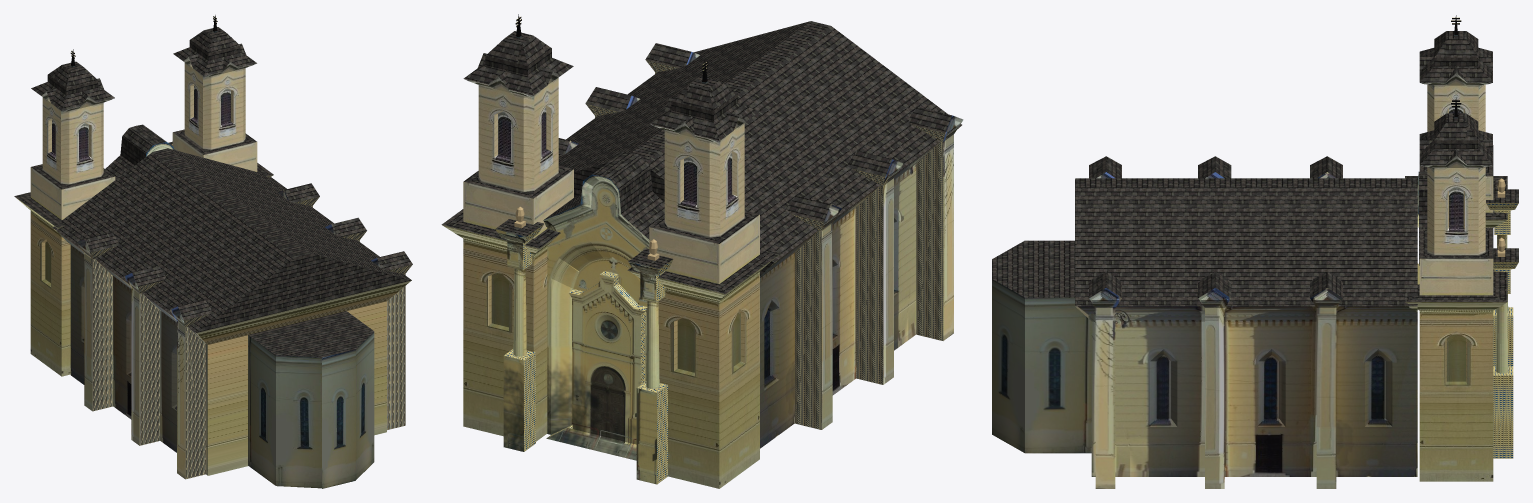
Rendered from kostol_moyzesova_upd.glb.
The picture shows the model from 3 angles, left to right: view 1: azimuth 30°, elevation 25°; view 2: azimuth 150°, elevation 25°; view 3: azimuth 270°, elevation 25°; orthographic projection. The views are drawn at different scales.
Parts seen in each view (by area): view 1: C-Object01#1, C-bok#1, C-veze#1, C-Object07, C-veze#1.001, C-Object06; view 2: C-Object01#1, C-bok#1, C-kostol#1, C-veze#1, C-veze#1.001; view 3: C-bok#1, C-Object01#1, C-veze#1.001, C-kostol#1, C-veze#1.
Boxes of the visible parts, box(x1,y1,x2,y2) form: C-Object01#1: box(14, 27, 412, 357); C-bok#1: box(54, 190, 412, 488); C-veze#1: box(16, 49, 115, 376); C-Object07: box(196, 280, 411, 475); C-veze#1.001: box(172, 15, 273, 177); C-Object06: box(322, 349, 355, 488); C-Object01#1: box(441, 21, 961, 293); C-bok#1: box(565, 52, 963, 448); C-kostol#1: box(495, 174, 672, 484); C-veze#1: box(628, 60, 779, 488); C-veze#1.001: box(442, 14, 573, 441); C-bok#1: box(992, 172, 1417, 488); C-Object01#1: box(992, 31, 1518, 306); C-veze#1.001: box(1405, 97, 1507, 481); C-kostol#1: box(1417, 172, 1518, 458); C-veze#1: box(1417, 15, 1506, 227).
Bounding box in the file's own units: 243 × 316 × 406.
15 materials, 6 textured.
